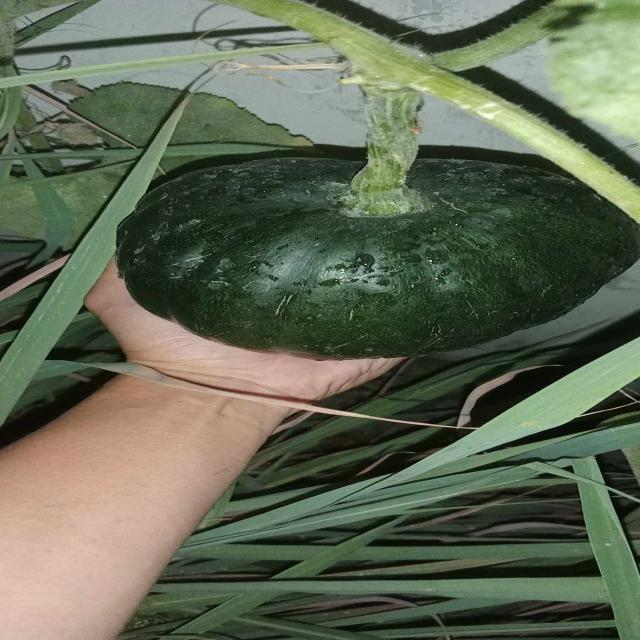squash: (112, 144, 640, 369)
